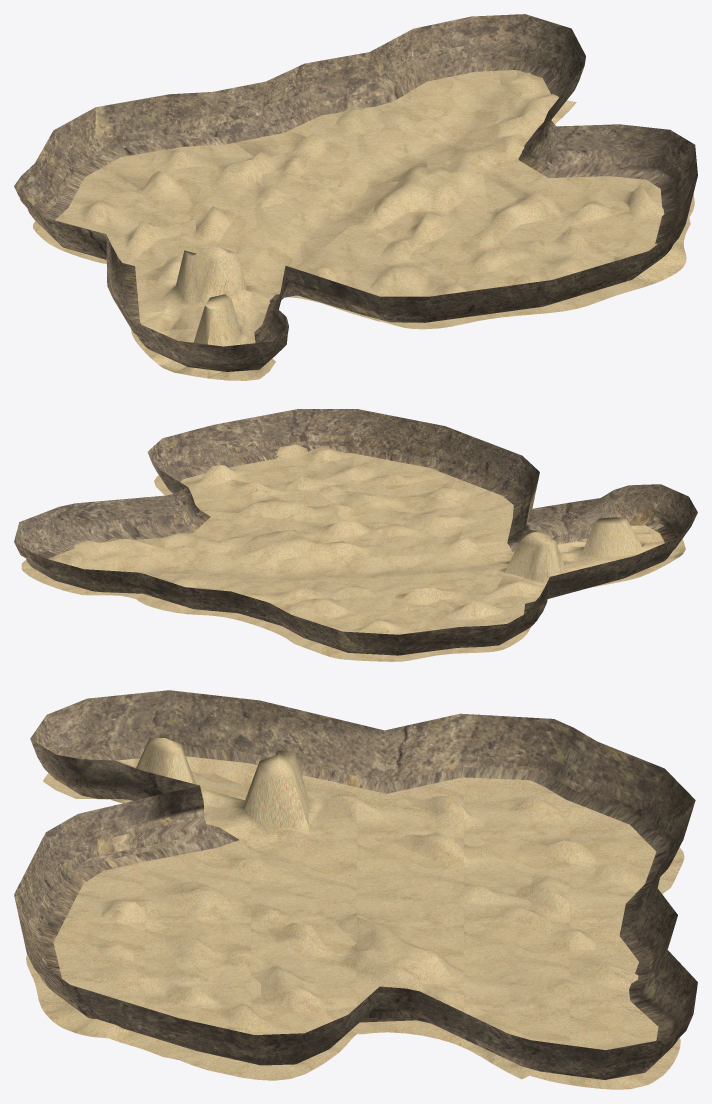
Rendered from first_area6_2k_groundwalls.fbx.
The picture shows the model from 3 angles, top to bottom: view 1: azimuth 30°, elevation 25°; view 2: azimuth 150°, elevation 25°; view 3: azimuth 270°, elevation 25°; orthographic projection. The views are drawn at different scales.
Visible parts, largest first — view 1: desertground, desertwalls; view 2: desertground, desertwalls; view 3: desertground, desertwalls.
Part boxes in pixels (left/top/right/bottom): desertground: left=33, top=70, right=694, bottom=380; desertwalls: left=14, top=14, right=697, bottom=371; desertground: left=21, top=444, right=685, bottom=661; desertwalls: left=14, top=409, right=697, bottom=655; desertground: left=26, top=738, right=684, bottom=1089; desertwalls: left=14, top=690, right=697, bottom=1079.
Size of the model in its own units: 6357 by 536 by 5105.
